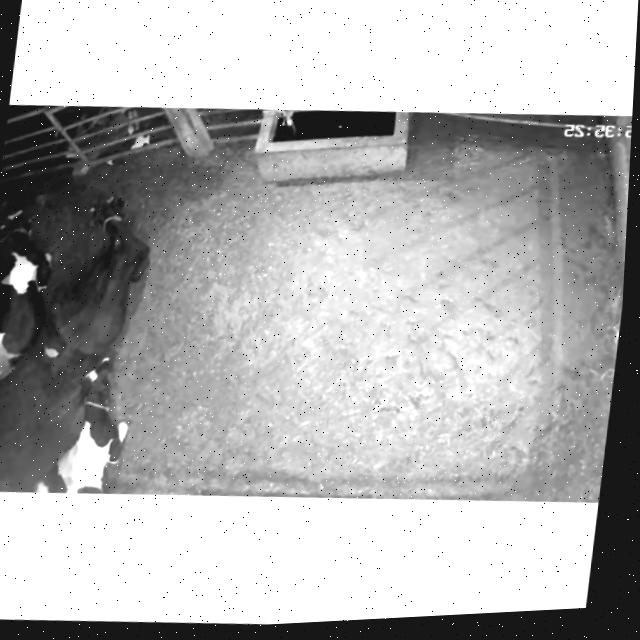lay: (33, 182, 162, 380), (29, 340, 164, 500), (0, 174, 57, 382)
